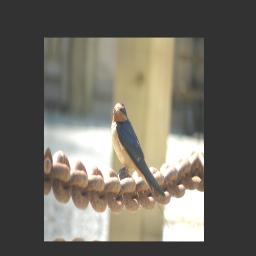Swallow: (105, 101, 179, 233)
